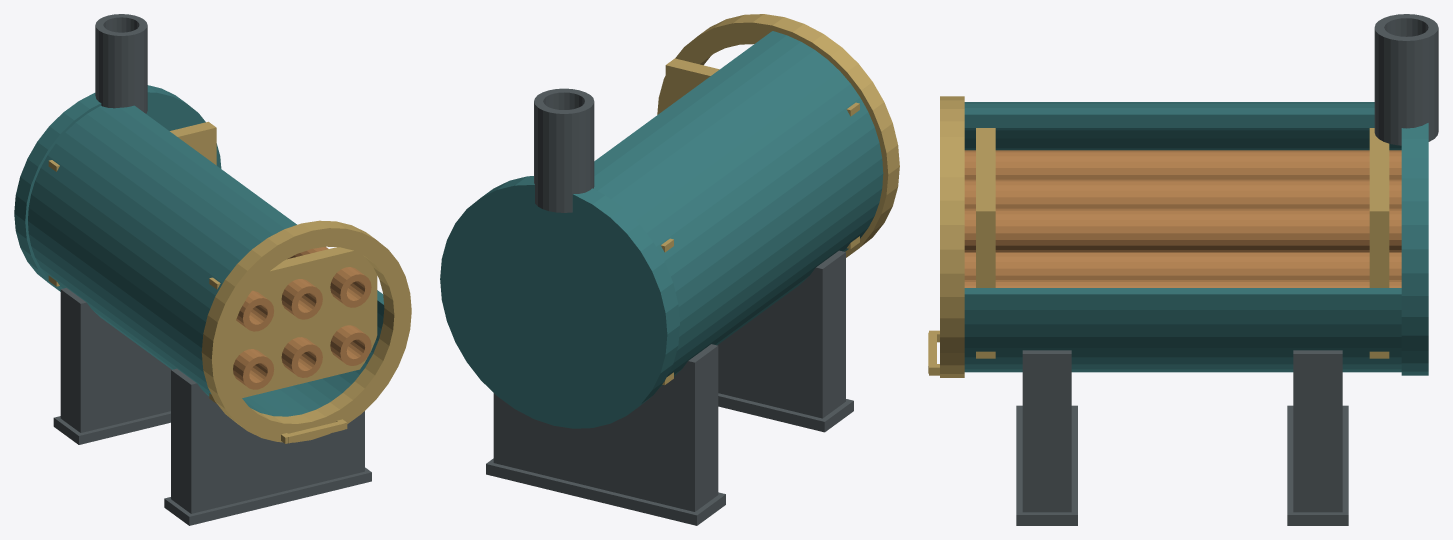
3 views of the same model, side by side, from view 1: azimuth 30°, elevation 25°; view 2: azimuth 150°, elevation 25°; view 3: azimuth 270°, elevation 25° (orthographic). The views are drawn at different scales.
Visible parts, largest first — view 1: WholeQuarterCutThickHorizontalShell, WholeFrontAnnularServiceRim, WholeCurvedSaddle0, WholeCurvedSaddle1, WholeFrontSixPortTubePlate, WholeBlindOpenTopRearFlue, WholeClosedRearHead, WholeSaddleGroundPad0, WholeSaddleGroundPad1, WholeOpenFireTube_1_2, WholeOpenFireTube_0_2, WholeOpenFireTube_0_1 (+5 smaller); view 2: WholeQuarterCutThickHorizontalShell, WholeClosedRearHead, WholeCurvedSaddle1, WholeCurvedSaddle0, WholeFrontAnnularServiceRim, WholeBlindOpenTopRearFlue, WholeSaddleGroundPad1, WholeSaddleGroundPad0, WholeFrontSixPortTubePlate; view 3: WholeQuarterCutThickHorizontalShell, WholeOpenFireTube_1_2, WholeOpenFireTube_1_0, WholeOpenFireTube_1_1, WholeOpenFireTube_0_1, WholeCurvedSaddle1, WholeCurvedSaddle0, WholeBlindOpenTopRearFlue, WholeFrontAnnularServiceRim, WholeClosedRearHead, WholeFrontSixPortTubePlate, WholeRearSixPortTubePlate (+3 smaller).
Boxes of the visible parts, x1,y1,x2,y2 form: WholeQuarterCutThickHorizontalShell: (28,105,384,416); WholeFrontAnnularServiceRim: (201,220,411,442); WholeCurvedSaddle0: (171,368,364,513); WholeCurvedSaddle1: (60,288,171,432); WholeFrontSixPortTubePlate: (209,247,377,403); WholeBlindOpenTopRearFlue: (95,14,147,113); WholeClosedRearHead: (14,85,221,291); WholeSaddleGroundPad0: (164,467,371,525); WholeSaddleGroundPad1: (53,411,170,444); WholeOpenFireTube_1_2: (287,247,371,307); WholeOpenFireTube_0_2: (330,325,371,365); WholeOpenFireTube_0_1: (281,337,322,377); WholeQuarterCutThickHorizontalShell: (593,31,883,386); WholeClosedRearHead: (440,176,679,428); WholeCurvedSaddle1: (493,344,718,511); WholeCurvedSaddle0: (717,250,845,418); WholeFrontAnnularServiceRim: (657,14,899,257); WholeBlindOpenTopRearFlue: (534,88,594,212); WholeSaddleGroundPad1: (486,458,725,525); WholeSaddleGroundPad0: (718,393,853,432); WholeFrontSixPortTubePlate: (665,58,859,248); WholeQuarterCutThickHorizontalShell: (964,102,1401,372); WholeOpenFireTube_1_2: (964,208,1401,252); WholeOpenFireTube_1_0: (964,150,1401,179); WholeOpenFireTube_1_1: (964,179,1401,208); WholeOpenFireTube_0_1: (964,252,1401,279); WholeCurvedSaddle1: (1293,350,1342,512); WholeCurvedSaddle0: (1022,350,1071,512); WholeBlindOpenTopRearFlue: (1374,14,1438,145); WholeFrontAnnularServiceRim: (940,96,964,377); WholeClosedRearHead: (1401,123,1428,375); WholeFrontSixPortTubePlate: (976,128,995,358); WholeRearSixPortTubePlate: (1369,128,1389,358).
Bounding box in the file's own units: 1.15 × 1.99 × 2.07.
